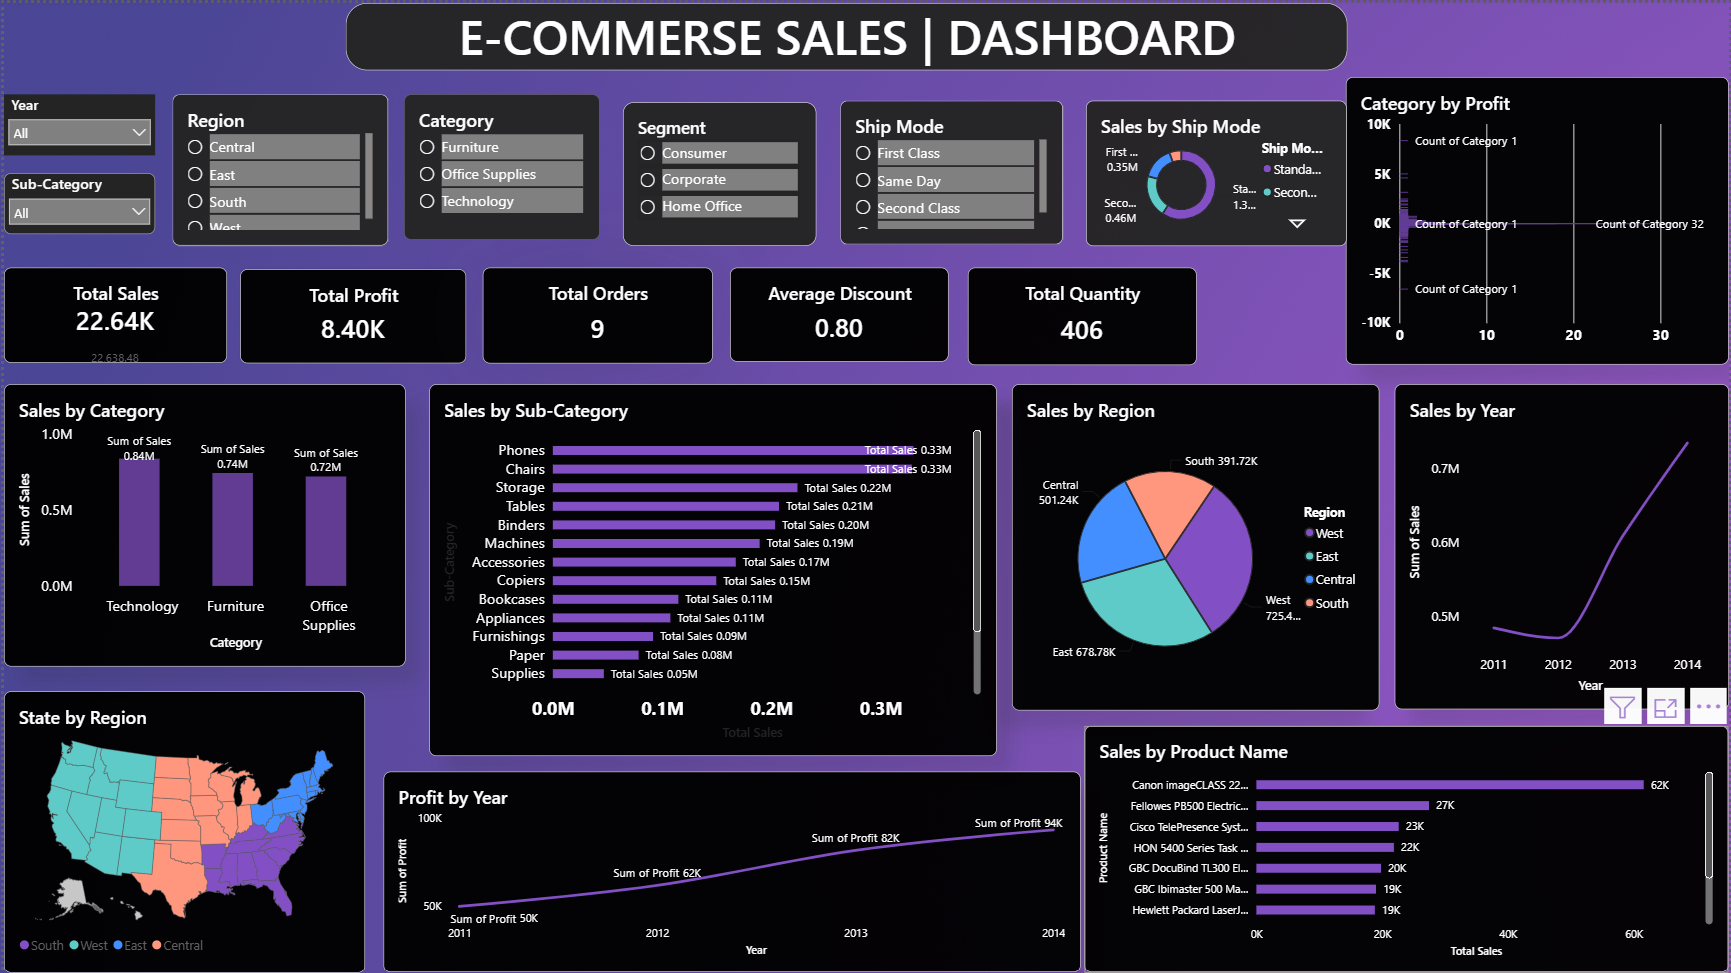

The dashboard page shown, as its layout file describes it:
{"tool":"powerbi","page":{"name":"Page 1","canvas":[1920,1080],"ordinal":0},"visuals":[{"type":"textbox","title":"E-COMMERSE SALES | DASHBOARD","box":[380.5,0,1114.8,75.2],"z":0},{"type":"kpi","title":"Total Sales ","fields":{"Indicator":["Data.Total Sales"],"TrendLine":["Data.Sales"]},"box":[0,294,248,106],"z":1000},{"type":"kpi","title":"Total Profit ","fields":{"Indicator":["Data.Total Profit"],"TrendLine":["Data.Profit"]},"box":[262.4,296.5,251.7,104.5],"z":2000},{"type":"kpi","title":"Total Quantity ","fields":{"Indicator":["Data.Total Quantity"],"TrendLine":["Data.Quantity"]},"box":[1072.6,294.9,254.3,108.7],"z":3000},{"type":"columnChart","title":"Sales by Category","fields":{"Category":["Data.Category"],"Y":["Sum(Data.Sales)"]},"box":[0,424.7,446.8,314.1],"z":4000},{"type":"kpi","title":"Total Orders ","fields":{"Indicator":["CountNonNull(Data.Order ID)"],"TrendLine":["Data.Product ID"]},"box":[533.3,294.4,256,106.7],"z":5000},{"type":"pieChart","title":"Sales by Region","fields":{"Category":["Data.Region"],"Y":["Sum(Data.Sales)"]},"box":[1122.4,423.9,409.1,363.1],"z":6000},{"type":"kpi","title":"Average Discount ","fields":{"Indicator":["Data.Average Discount"],"TrendLine":["Data.Discount"]},"box":[809.1,294.9,243.3,105],"z":7000},{"type":"barChart","title":"Category by Profit","fields":{"Category":["Data.Profit"],"Y":["CountNonNull(Data.Category)"]},"box":[1494,82,426,320],"z":8000},{"type":"barChart","title":"Sales by Sub-Category","fields":{"Category":["Data.Sub-Category"],"Y":["Data.Total Sales"]},"box":[473.6,424.5,631.5,413.9],"z":9000},{"type":"lineChart","title":"Sales by Year","fields":{"Category":["Data.Order Date.Variation.Date Hierarchy.Year","Data.Order Date.Variation.Date Hierarchy.Month"],"Y":["Sum(Data.Sales)"]},"box":[1548,424,372,362],"z":10000},{"type":"lineChart","title":"Profit by Year","fields":{"Category":["Data.Order Date.Variation.Date Hierarchy.Year","Data.Order Date.Variation.Date Hierarchy.Quarter","Data.Order Date.Variation.Date Hierarchy.Month","Data.Order Date.Variation.Date Hierarchy.Day"],"Y":["Sum(Data.Profit)"]},"box":[422,856,776,224],"z":11000},{"type":"donutChart","title":"Sales by Ship Mode","fields":{"Category":["Data.Ship Mode"],"Y":["Sum(Data.Sales)"]},"box":[1204,108,290,162],"z":12000},{"type":"barChart","title":"Sales by Product Name","fields":{"Category":["Data.Product Name"],"Y":["Data.Total Sales"]},"box":[1203.2,804.3,716.8,275.2],"z":13000},{"type":"listSlicer","title":"Region","fields":{"Values":["Data.Region"]},"box":[188,102,240,168],"z":14000},{"type":"listSlicer","title":"Category","fields":{"Values":["Data.Category"]},"box":[446,102,218,162],"z":15000},{"type":"listSlicer","title":"Segment","fields":{"Values":["Data.Segment"]},"box":[689.1,110.9,215.5,160],"z":16000},{"type":"listSlicer","fields":{"Values":["Data.Ship Mode"]},"box":[930.1,108.8,247.5,160],"z":17000},{"type":"slicer","fields":{"Values":["Data.Sub-Category"]},"box":[0,190,168,68],"z":18000},{"type":"slicer","fields":{"Values":["Data.Year"]},"box":[0,102,168,68],"z":19000},{"type":"shapeMap","title":"State by Region","fields":{"Category":["Data.State"],"Series":["Data.Region"]},"box":[0,766,402,314],"z":20000}]}

Visuals, with their boxes in screenshot pixels (x1, y1, x2, y2), scaled from the page's 1920x1080 canvas onto the 1731x973 screenshot:
"E-COMMERSE SALES | DASHBOARD" textbox: [x1=343, y1=0, x2=1348, y2=68]
"Total Sales " kpi: [x1=0, y1=265, x2=224, y2=360]
"Total Profit " kpi: [x1=237, y1=267, x2=463, y2=361]
"Total Quantity " kpi: [x1=967, y1=266, x2=1196, y2=364]
"Sales by Category" columnChart: [x1=0, y1=383, x2=403, y2=666]
"Total Orders " kpi: [x1=481, y1=265, x2=712, y2=361]
"Sales by Region" pieChart: [x1=1012, y1=382, x2=1381, y2=709]
"Average Discount " kpi: [x1=729, y1=266, x2=949, y2=360]
"Category by Profit" barChart: [x1=1347, y1=74, x2=1730, y2=362]
"Sales by Sub-Category" barChart: [x1=427, y1=382, x2=996, y2=755]
"Sales by Year" lineChart: [x1=1396, y1=382, x2=1730, y2=708]
"Profit by Year" lineChart: [x1=380, y1=771, x2=1080, y2=972]
"Sales by Ship Mode" donutChart: [x1=1085, y1=97, x2=1347, y2=243]
"Sales by Product Name" barChart: [x1=1085, y1=725, x2=1730, y2=972]
"Region" listSlicer: [x1=169, y1=92, x2=386, y2=243]
"Category" listSlicer: [x1=402, y1=92, x2=599, y2=238]
"Segment" listSlicer: [x1=621, y1=100, x2=816, y2=244]
listSlicer - Data.Ship Mode: [x1=839, y1=98, x2=1062, y2=242]
slicer - Data.Sub-Category: [x1=0, y1=171, x2=151, y2=232]
slicer - Data.Year: [x1=0, y1=92, x2=151, y2=153]
"State by Region" shapeMap: [x1=0, y1=690, x2=362, y2=972]
